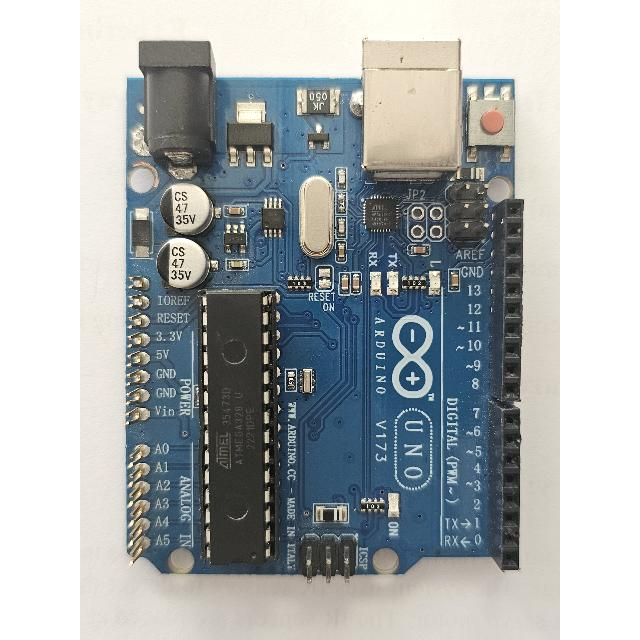missing_analog_pins: (123, 270, 156, 570)
